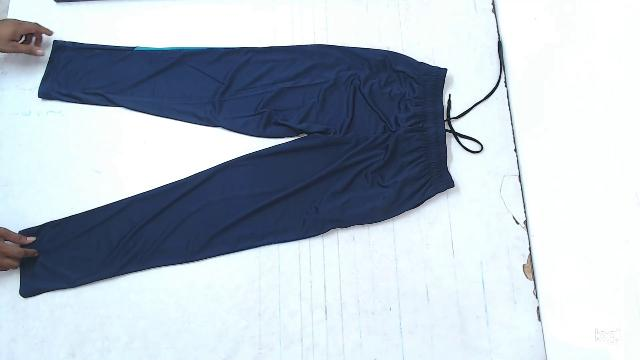new-garment: (20, 41, 460, 297)
